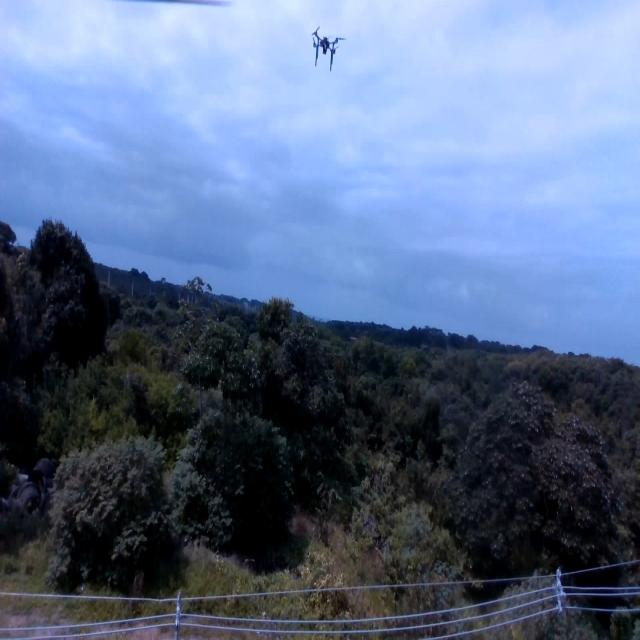-uav-: (308, 21, 348, 77)
